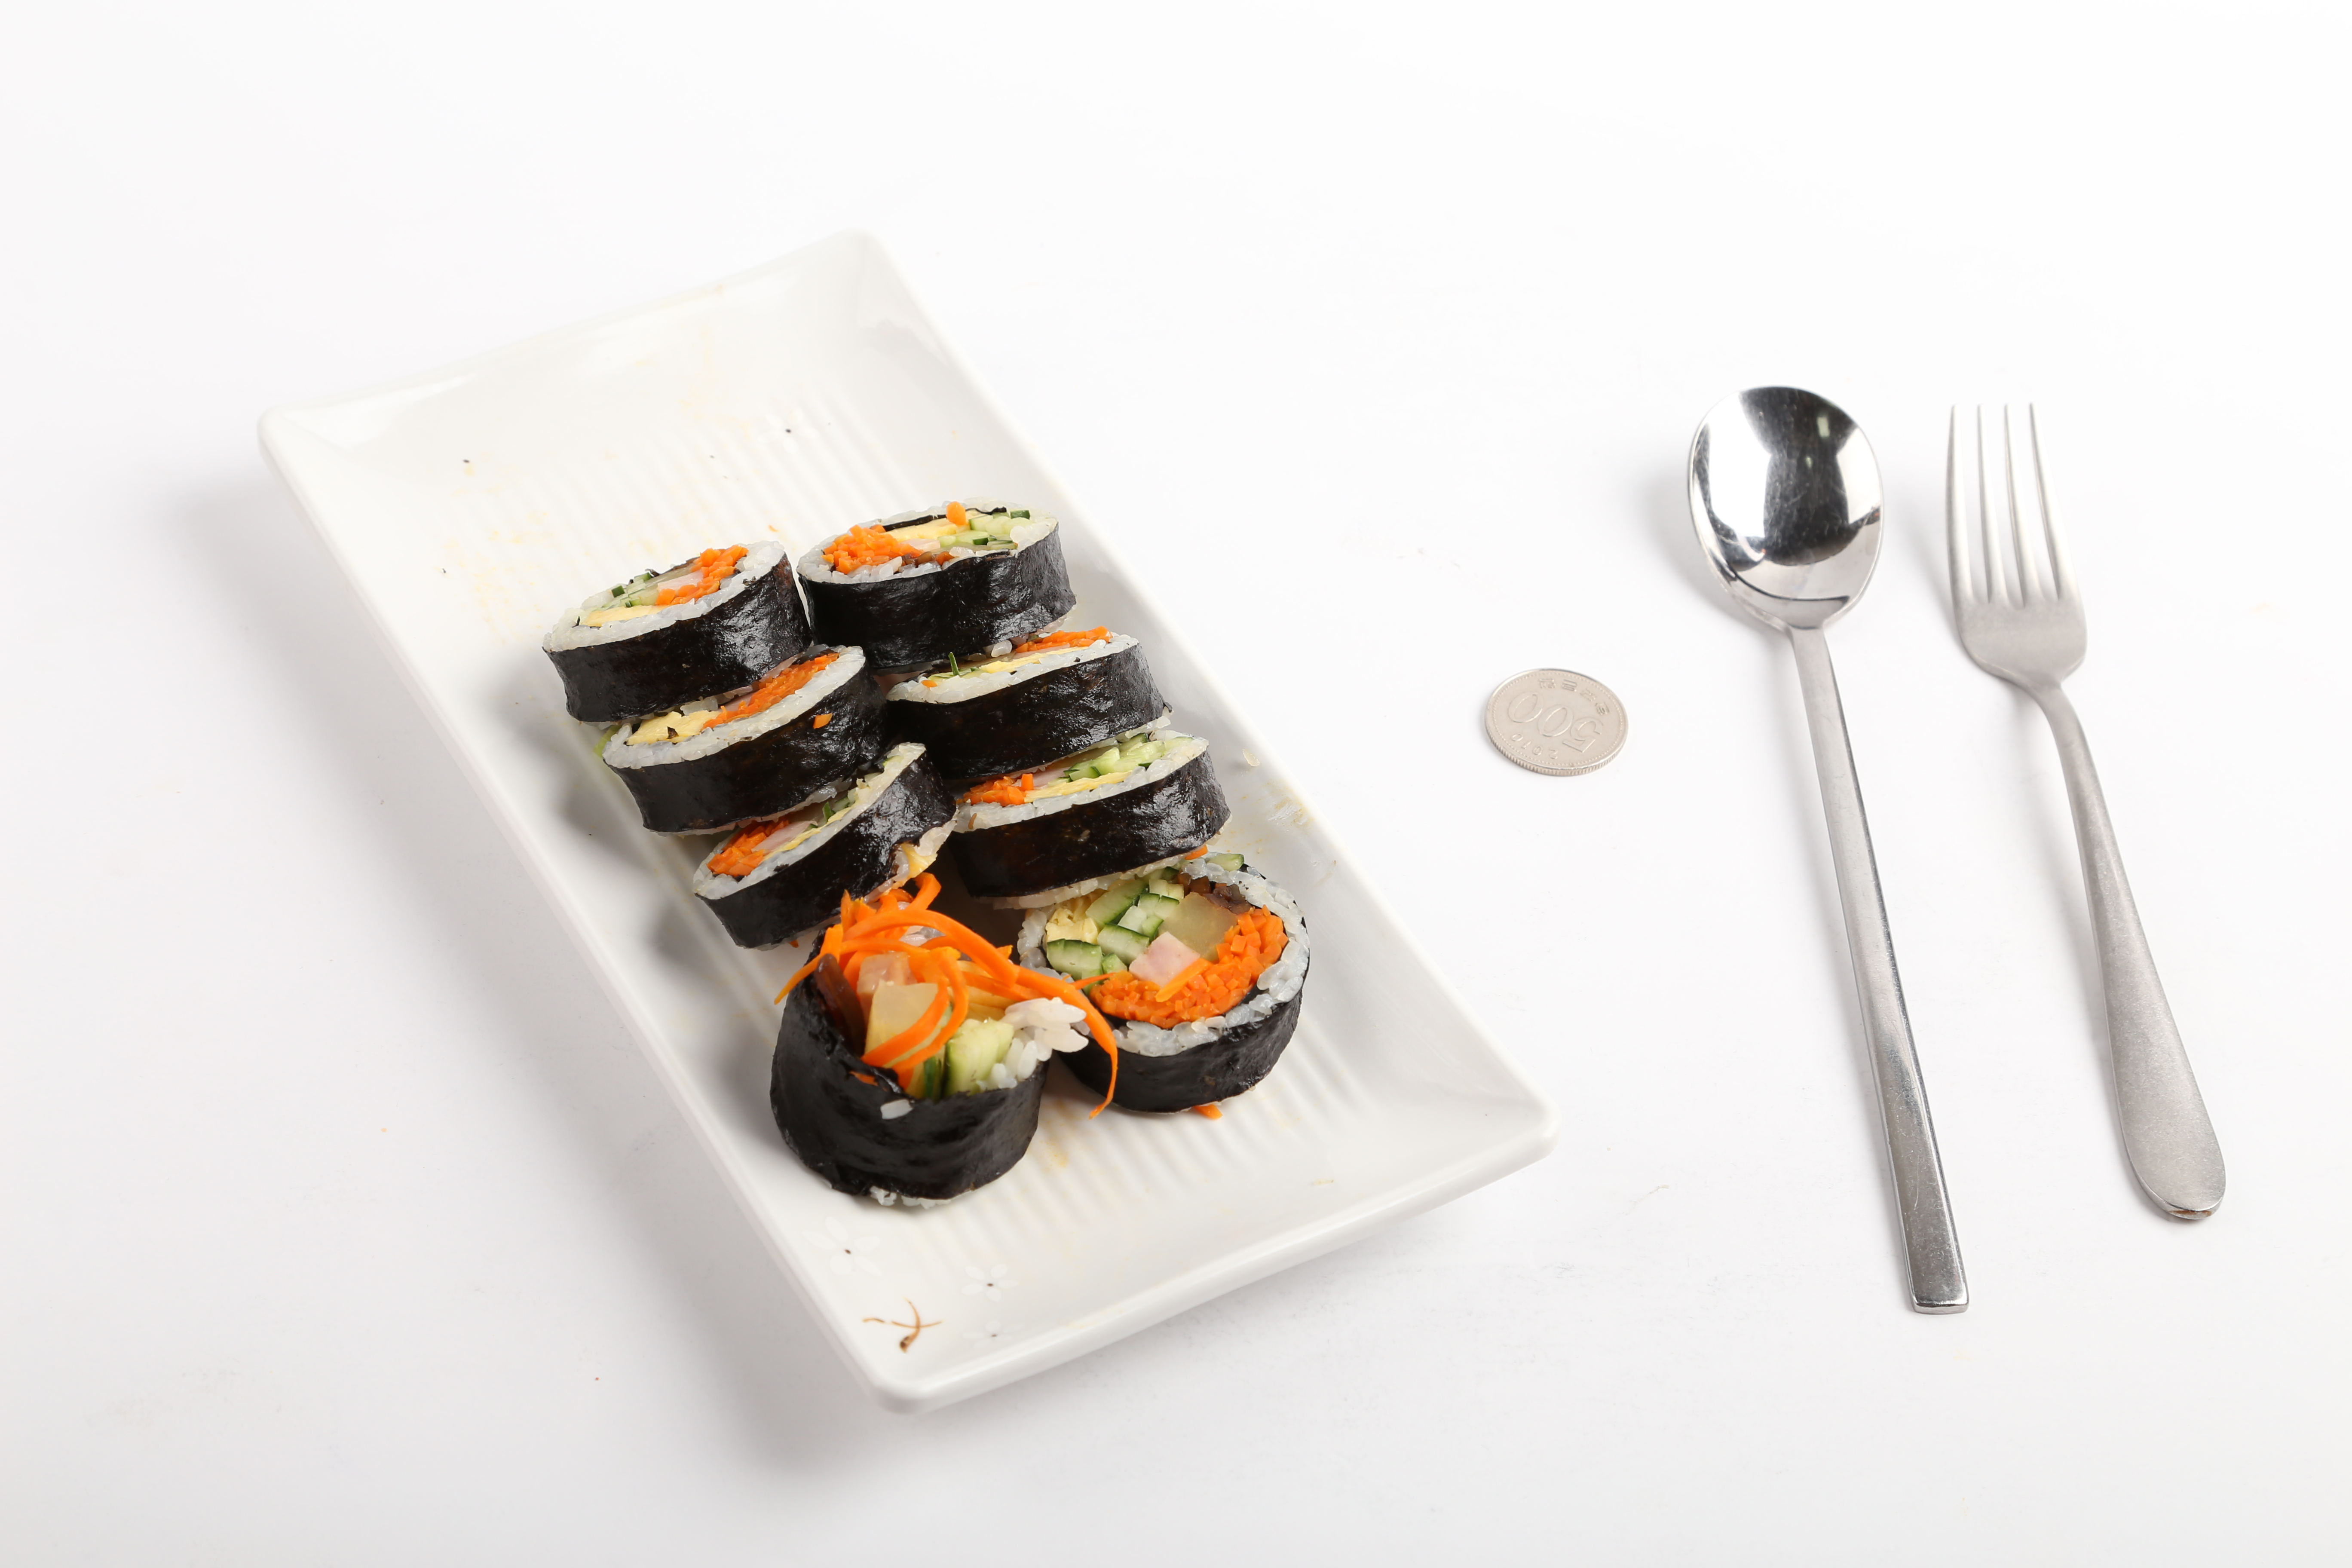dish: (257, 222, 1563, 1421)
ref_coin: (1480, 660, 1627, 780)
ref_fork: (1946, 401, 2089, 702)
ref_spoon: (1682, 381, 1886, 649)
김밥: (534, 500, 1314, 1209)
